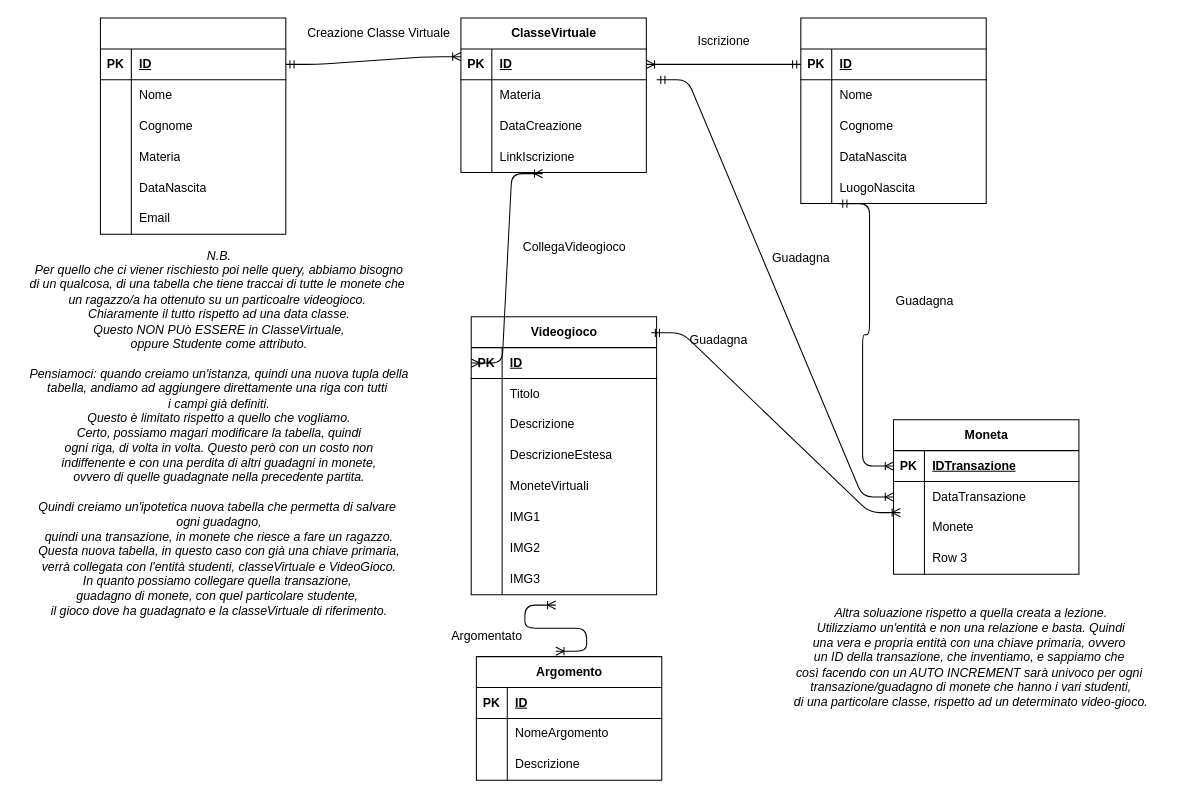
Image size: 1178x798. Some labels were removed from this diagram. Each missing label, with the box of its shape:
Docente: (99, 17, 286, 234)
Studente: (800, 17, 986, 203)
